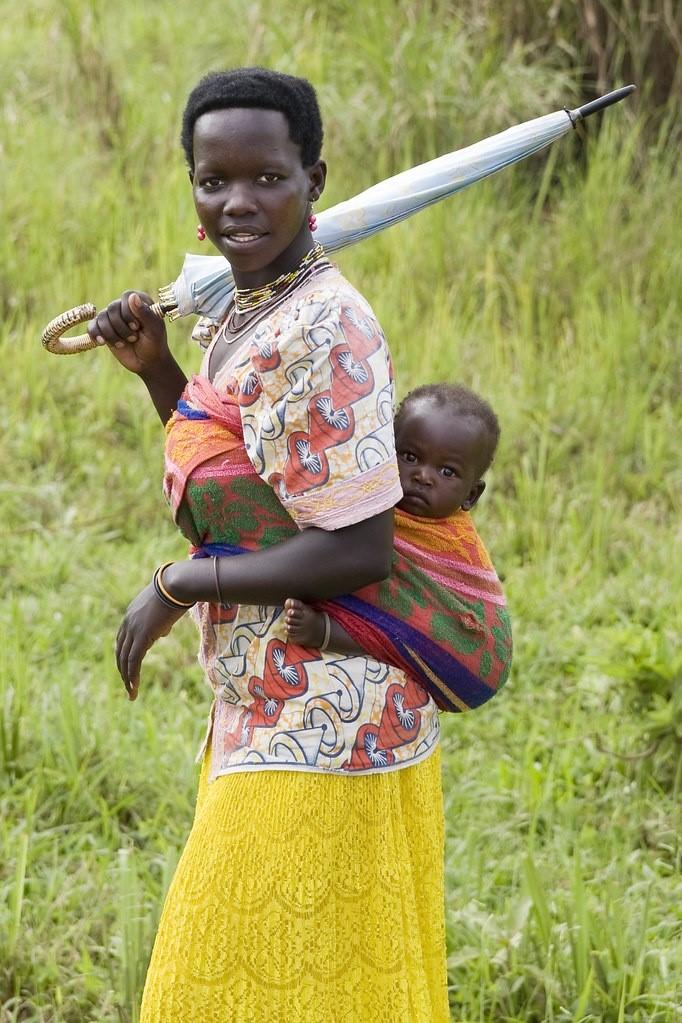face_no_mask: (178, 70, 324, 265), (393, 383, 500, 518)
